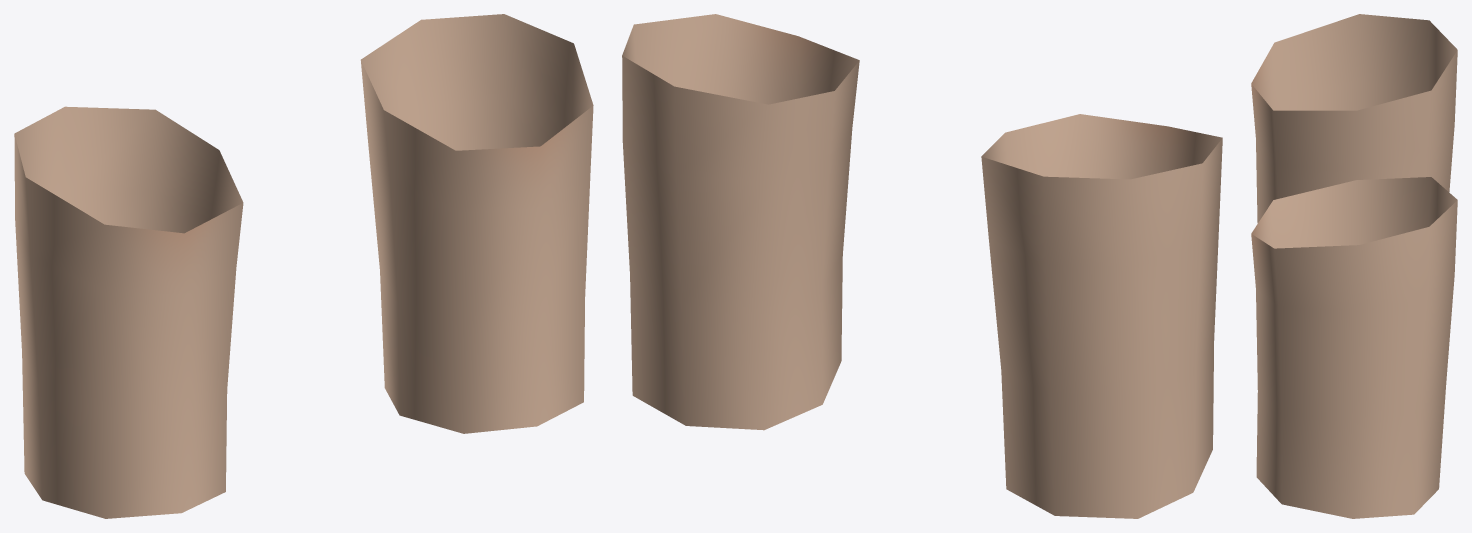
The model's file is Body_LegA_2.fbx.
3 views of the same model, side by side, from view 1: azimuth 30°, elevation 25°; view 2: azimuth 150°, elevation 25°; view 3: azimuth 270°, elevation 25° (orthographic). The views are drawn at different scales.
Visible parts, largest first — view 1: Body_LegA_2; view 2: Body_LegA_2; view 3: Body_LegA_2.
Part boxes in pixels (bbox=[...]): Body_LegA_2: bbox=[14, 14, 593, 518]; Body_LegA_2: bbox=[622, 14, 1222, 518]; Body_LegA_2: bbox=[1251, 14, 1457, 518].
Bounding box in the file's own units: 31.33 × 18.38 × 11.84.
